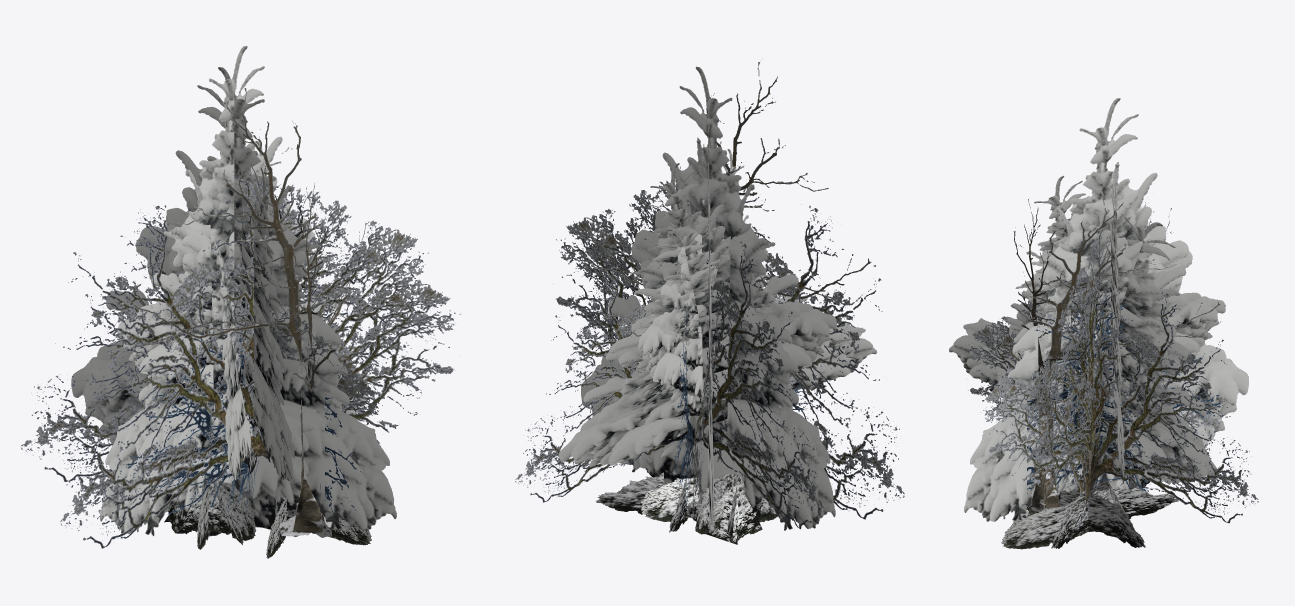
File: tree_snow.glb
3 renders of one model, left to right at view 1: azimuth 30°, elevation 25°; view 2: azimuth 150°, elevation 25°; view 3: azimuth 270°, elevation 25°, orthographic. The views are drawn at different scales.
Visible parts, largest first — view 1: snowtree, deadhero, bare, bush, deadwide; view 2: snowtree, deadhero, bush, bare, deadwide; view 3: snowtree, deadhero, bush, bare, deadwide.
Boxes of the visible parts, <box> form: snowtree: <box>71,45,396,536</box>; deadhero: <box>21,171,460,548</box>; bare: <box>121,88,368,537</box>; bush: <box>164,475,371,558</box>; deadwide: <box>120,310,364,523</box>; snowtree: <box>558,66,876,530</box>; deadhero: <box>515,162,904,529</box>; bush: <box>596,468,777,544</box>; bare: <box>582,58,875,357</box>; deadwide: <box>623,304,827,515</box>; snowtree: <box>949,98,1248,521</box>; deadhero: <box>965,197,1258,532</box>; bush: <box>1001,466,1178,549</box>; bare: <box>996,193,1225,531</box>; deadwide: <box>1024,299,1227,494</box>.
Bounding box in the file's own units: 9.26 × 11 × 7.86.
Materials: 5 (5 with a texture image).
